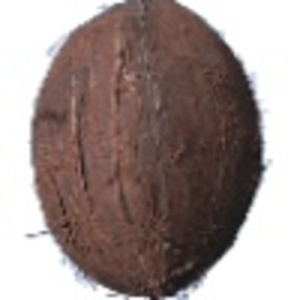coco: (32, 1, 268, 300)
